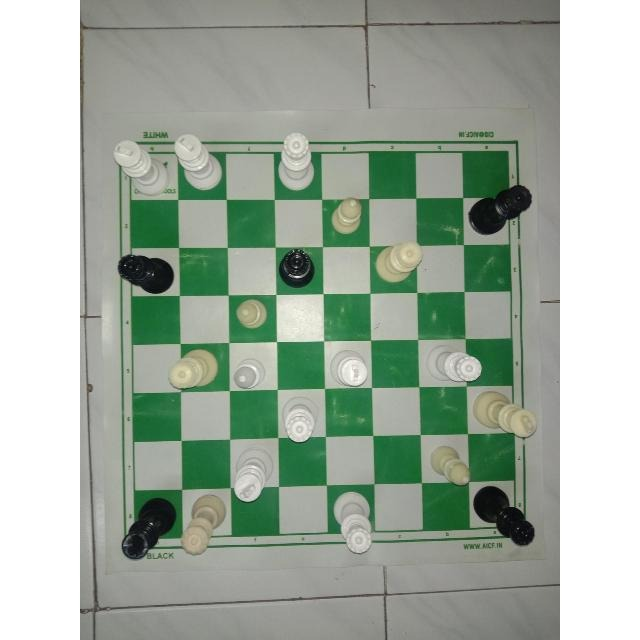black-king: (119, 496, 177, 566)
black-queen: (469, 486, 545, 550), (473, 178, 537, 238), (113, 249, 179, 299), (279, 243, 319, 291)
white-bishop: (422, 442, 476, 490), (233, 297, 276, 346), (326, 195, 372, 239), (223, 357, 273, 395)
white-king: (169, 131, 230, 199), (472, 389, 546, 441), (109, 132, 169, 194), (232, 441, 278, 506), (327, 343, 376, 395)
white-queen: (174, 491, 228, 561), (329, 489, 376, 557), (160, 348, 225, 394), (421, 342, 483, 390), (279, 121, 315, 195), (277, 393, 323, 449), (374, 239, 424, 289)
